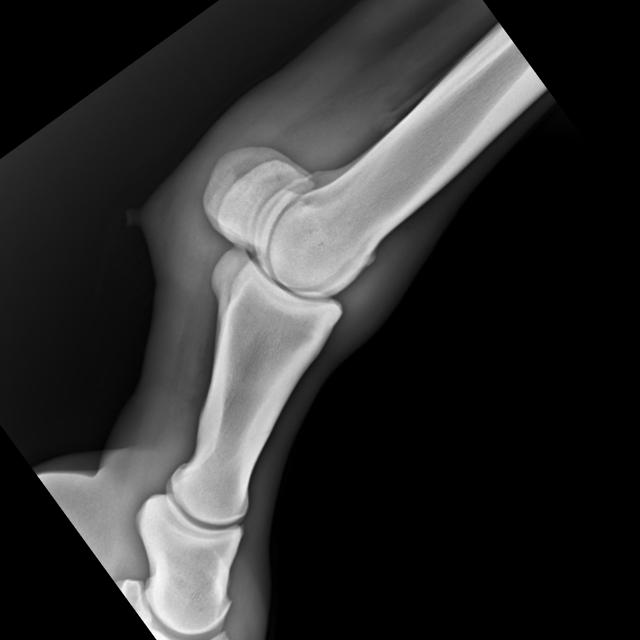joint-ht8A: (85, 2, 566, 490)
